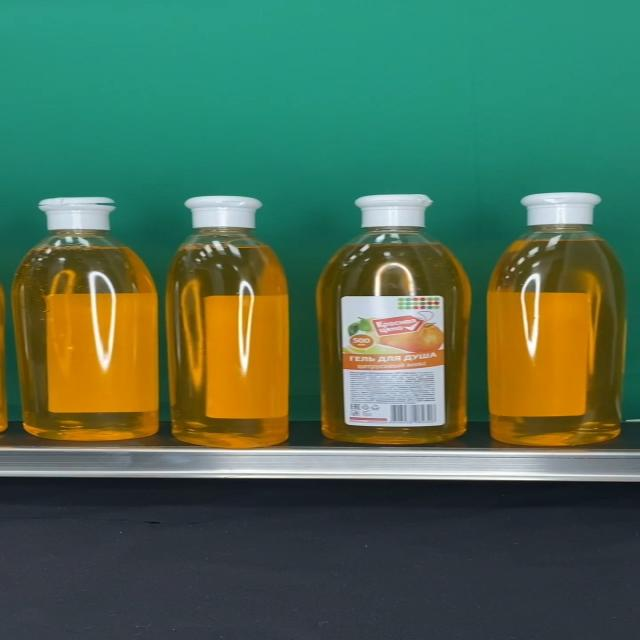Bottle: (316, 194, 471, 444), (487, 192, 628, 445), (13, 197, 159, 441), (165, 195, 290, 449)
Cap: (521, 192, 603, 226), (353, 194, 435, 227), (38, 197, 115, 231), (185, 196, 263, 228)
